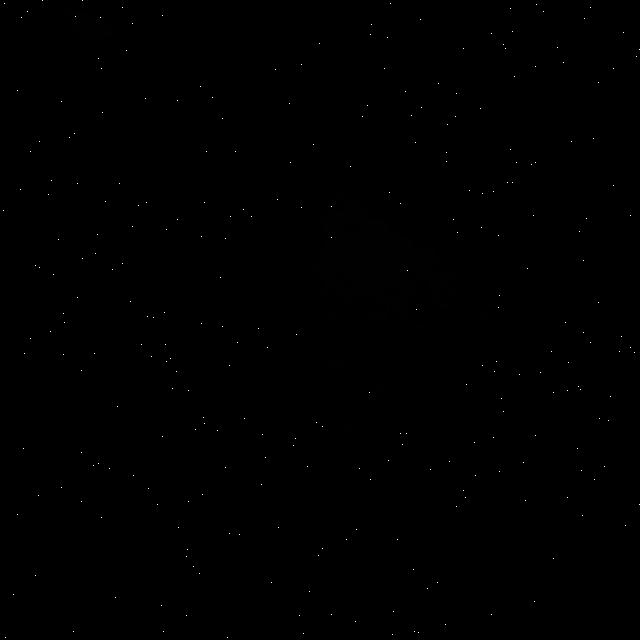adapter: (390, 333, 536, 543)
